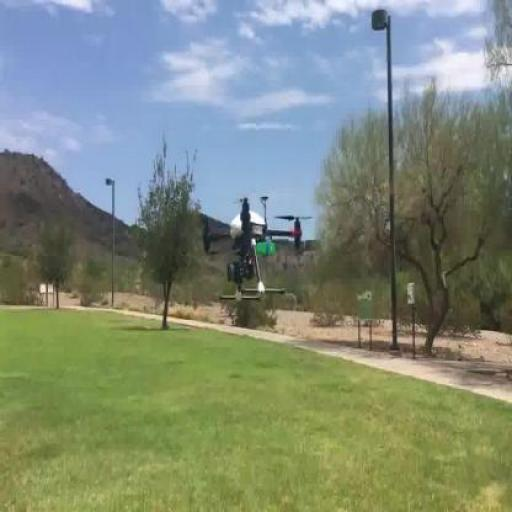drone: (201, 195, 315, 301)
